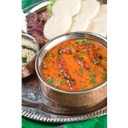idly: (43, 13, 70, 35), (89, 17, 108, 35), (53, 1, 81, 13), (82, 1, 99, 16), (72, 16, 87, 31)
